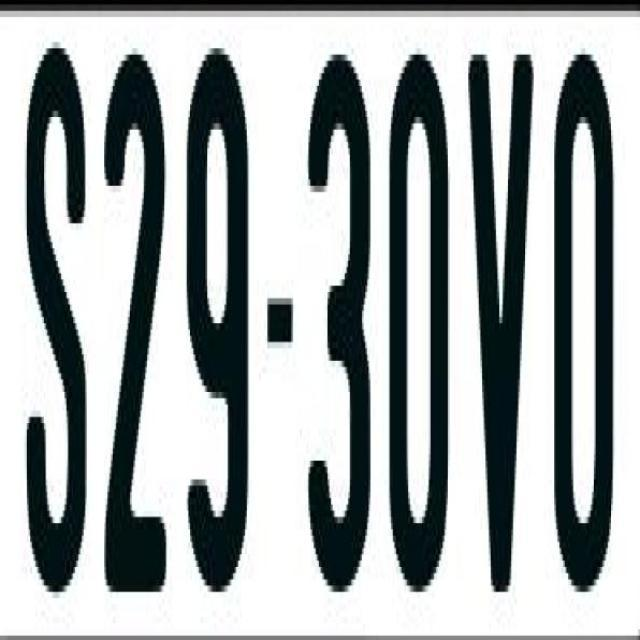license-plate: (5, 4, 635, 640)
